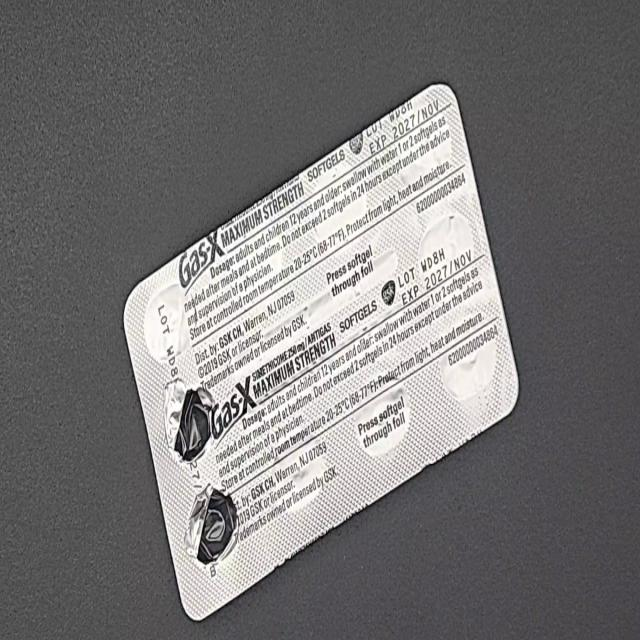defect: (182, 479, 241, 571), (160, 375, 217, 469)
